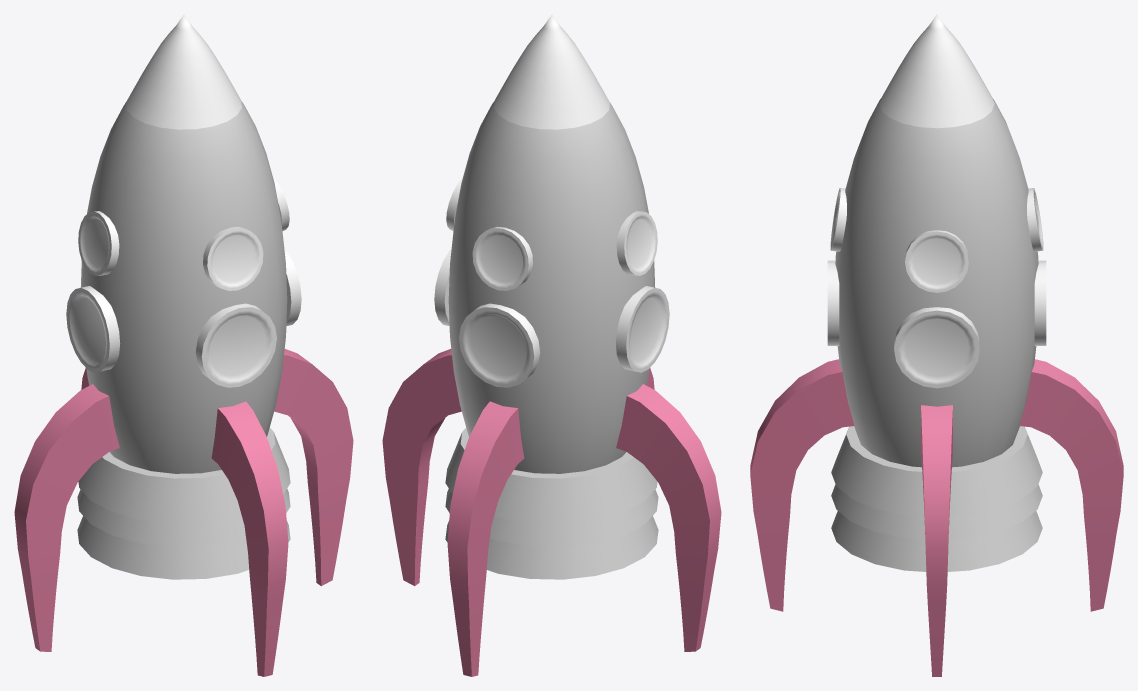
Rendered from Rocket Ship FBX New Colors Export.fbx.
3 renders of one model, left to right at view 1: azimuth 30°, elevation 25°; view 2: azimuth 150°, elevation 25°; view 3: azimuth 270°, elevation 25°, orthographic.
Visible parts, largest first — view 1: body, fins, sprockets, tip; view 2: body, fins, sprockets, tip; view 3: body, fins, sprockets, tip.
Part boxes in pixels (box(x1,y1,x2,y2)): body: box(77, 101, 290, 579); fins: box(14, 349, 353, 676); sprockets: box(66, 177, 301, 387); tip: box(126, 14, 241, 129); body: box(445, 101, 658, 579); fins: box(382, 349, 721, 676); sprockets: box(434, 177, 669, 387); tip: box(494, 14, 609, 129); body: box(831, 98, 1042, 571); fins: box(750, 359, 1123, 676); sprockets: box(827, 188, 1046, 388); tip: box(879, 14, 994, 128).
Bounding box in the file's own units: 6.2 × 10.91 × 6.2.
